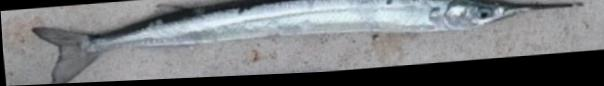fish: (31, 0, 578, 84)
